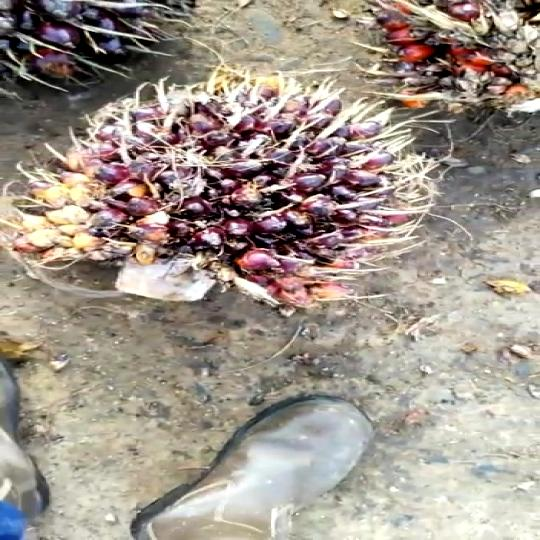kurang masak: (55, 81, 436, 286)
